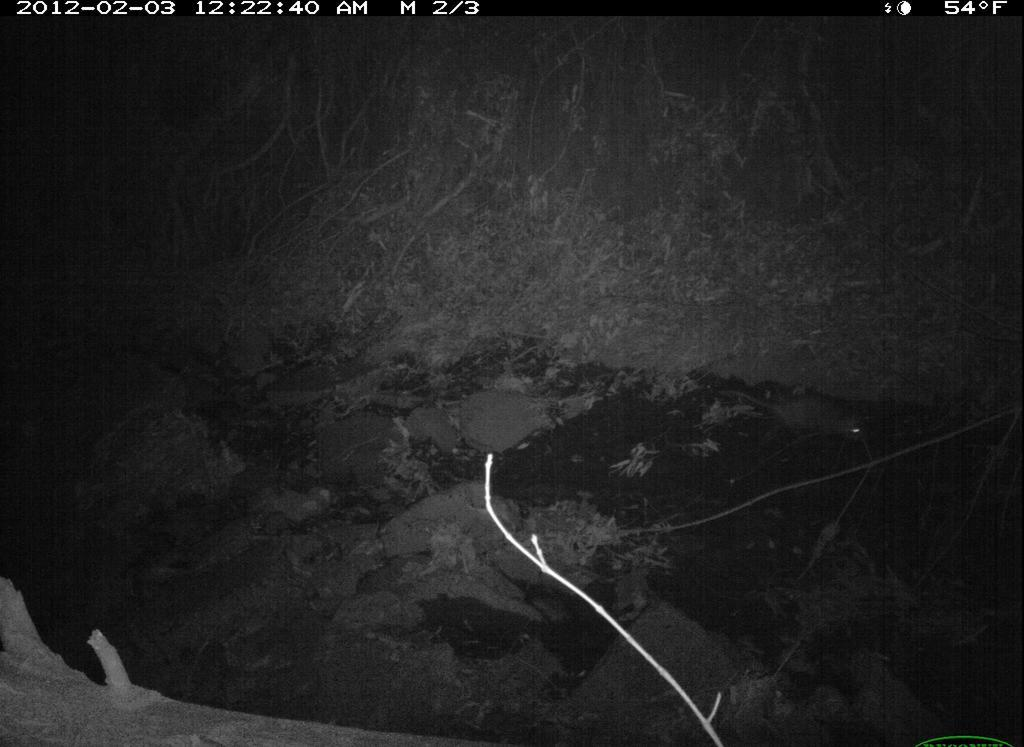opossum: (711, 377, 890, 470)
